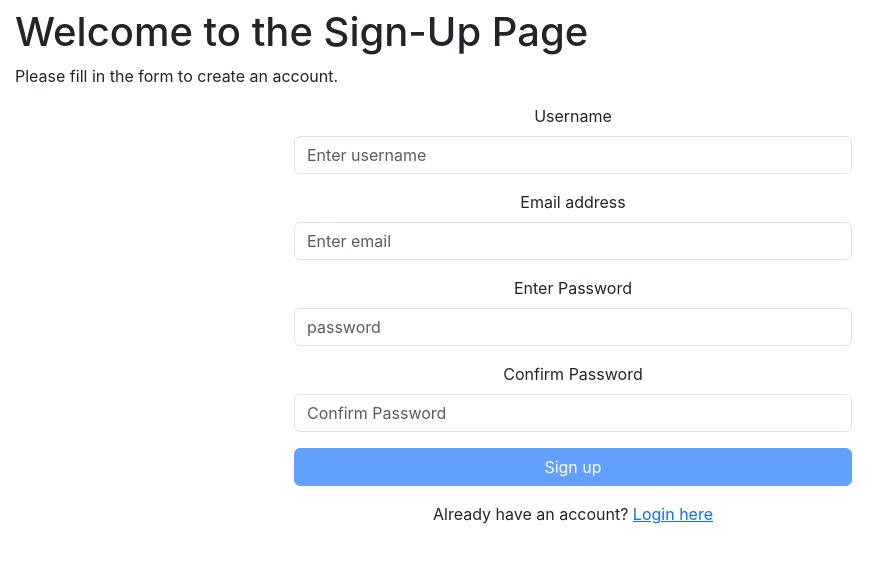
Scenario: Password Complexity Validation › displays error for password with no lowercase
Type "UPPERCASE1!" into the password field labelled "Enter Password" at (573,327), box [294,308,852,346]
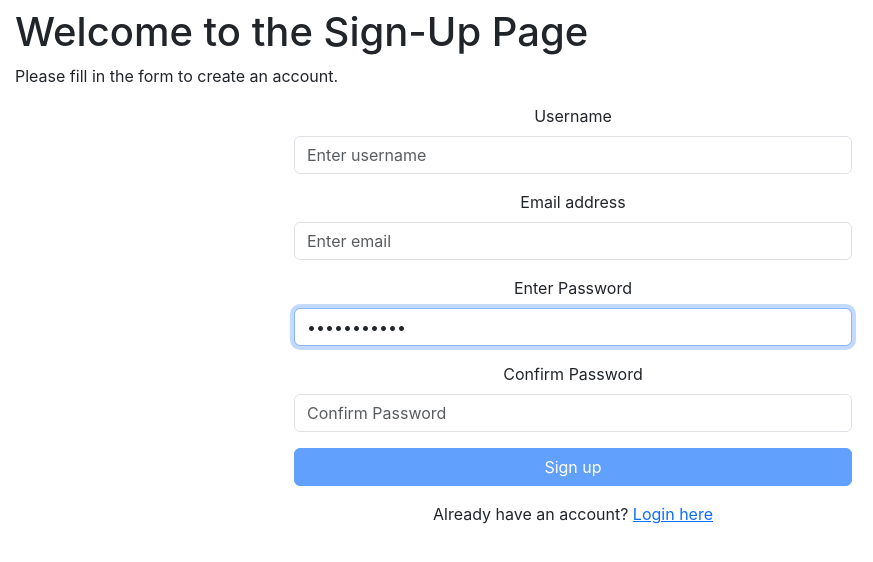
Type "UPPERCASE1!" into the password field labelled "Confirm Password" at (573,413), box [294,394,852,432]
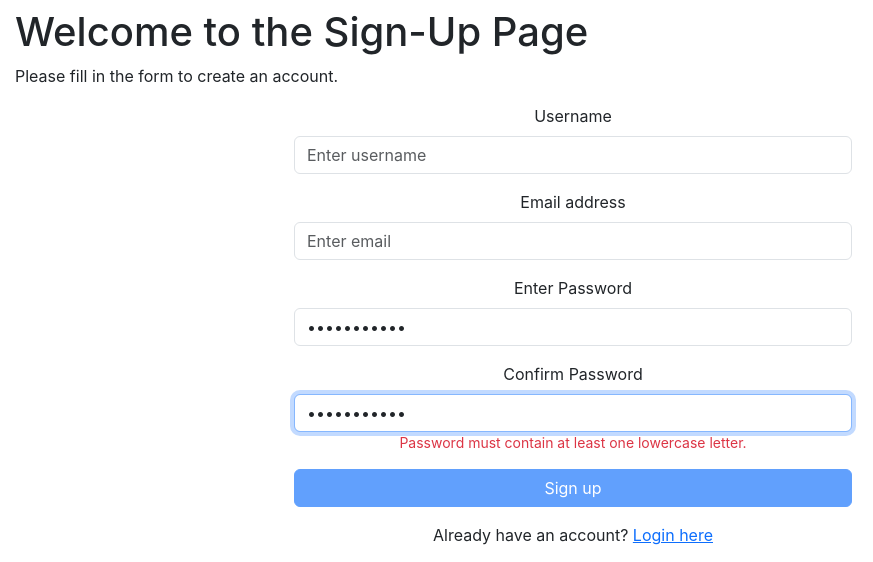
Now the text "Password must contain at least one lowercase letter." is shown, box [399,434,747,451]
